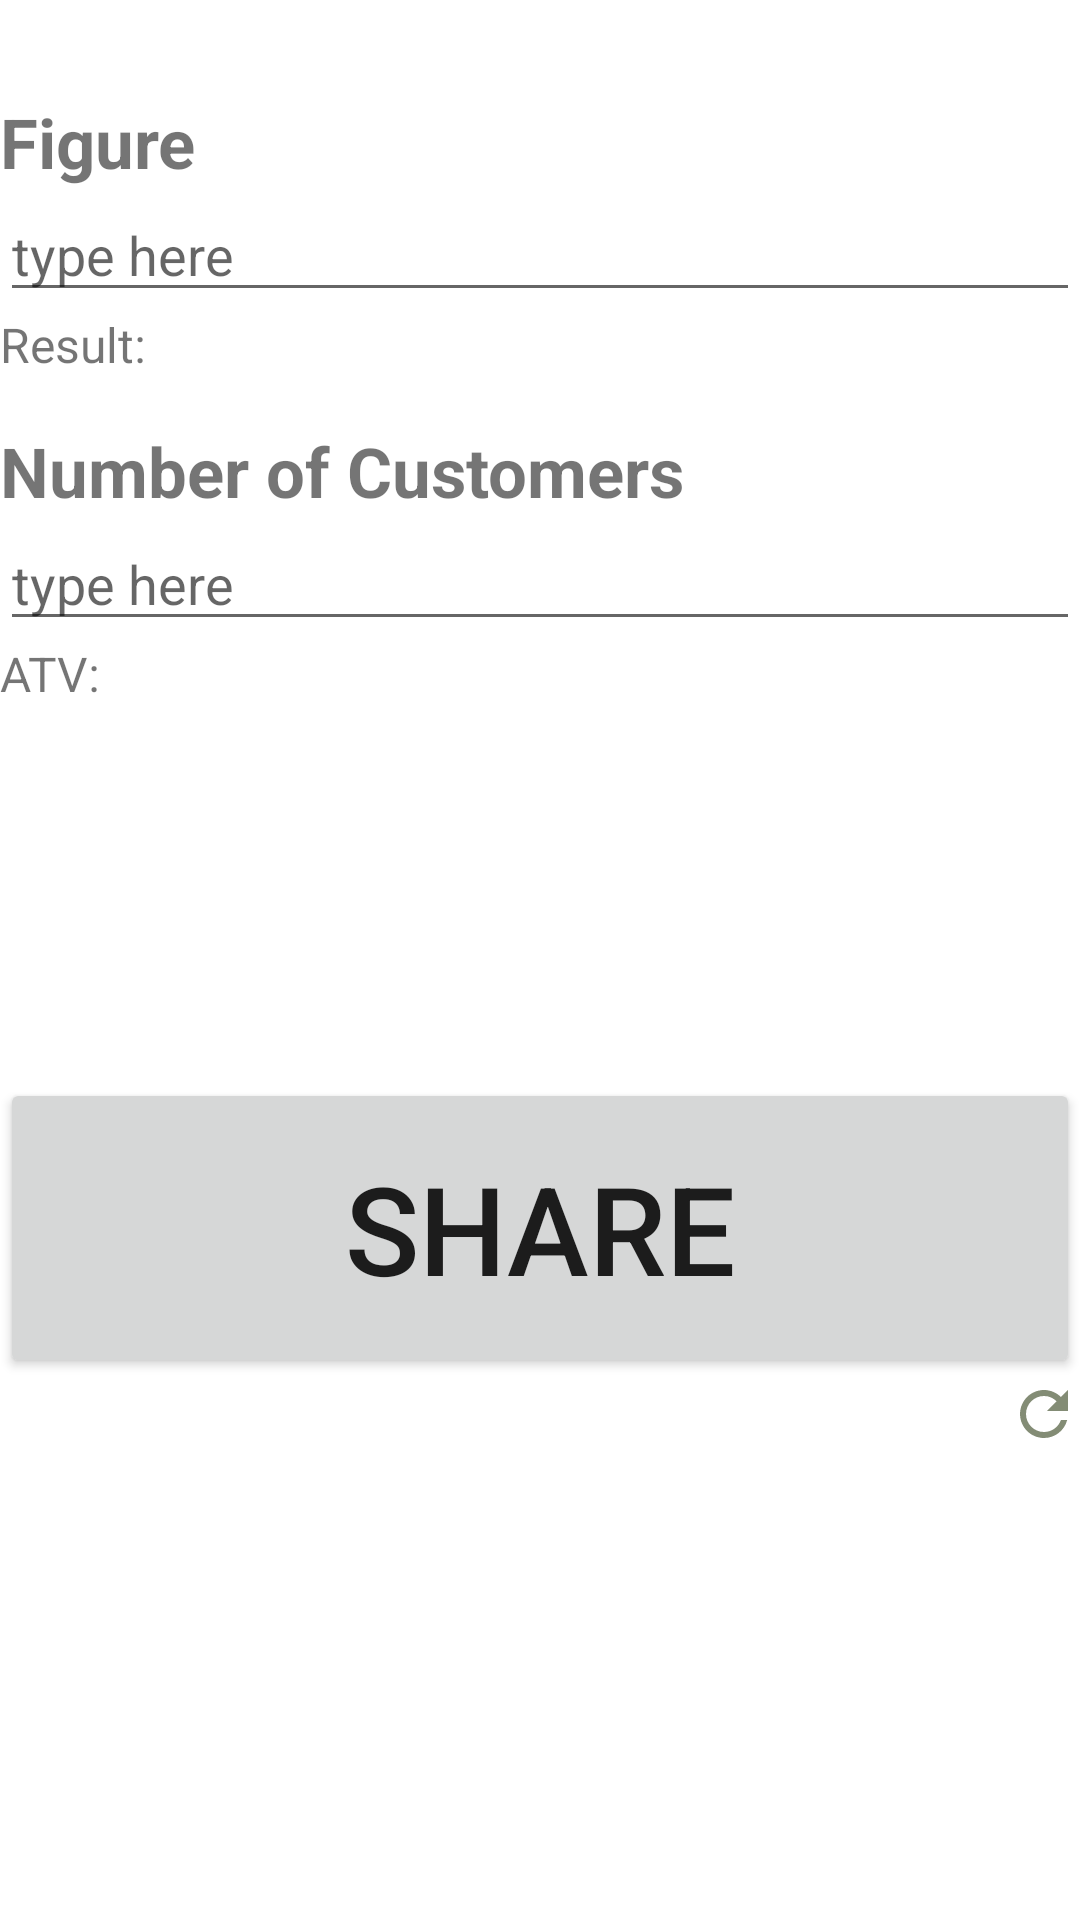

Screen size 1080w x 1920h. Icon name, then its box in pixels as (x1, y1, x2, y2):
refresh: (1020, 1390, 1068, 1438)
